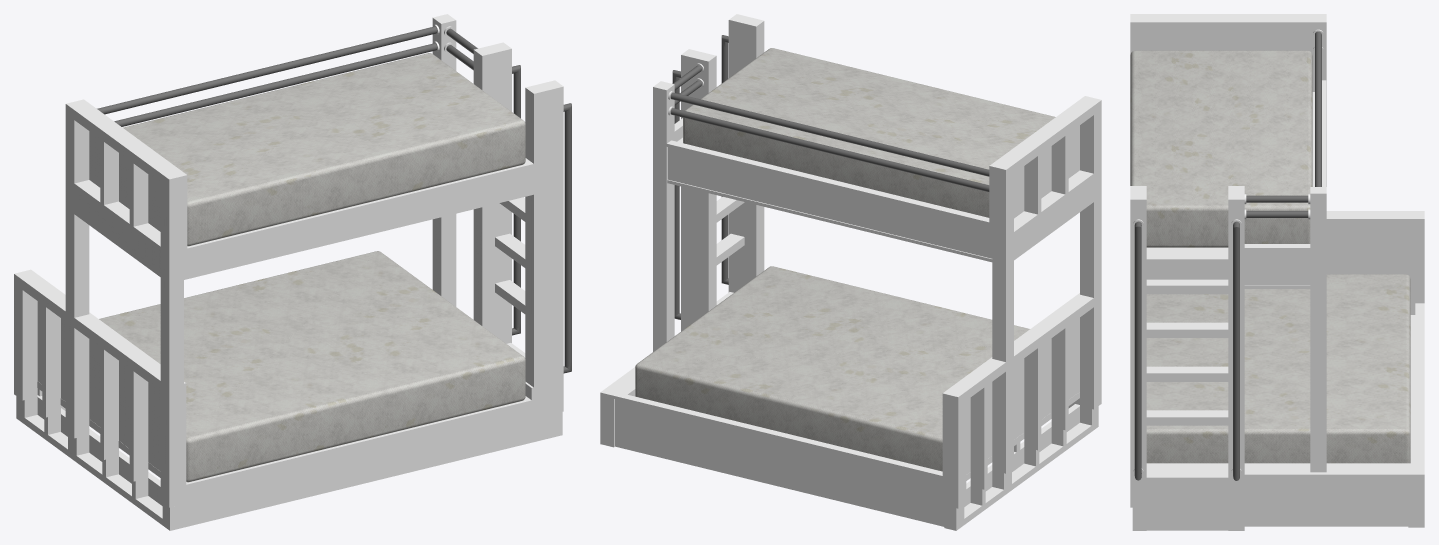
Rendered from bunkbed.glb.
3 views of the same model, side by side, from view 1: azimuth 30°, elevation 25°; view 2: azimuth 150°, elevation 25°; view 3: azimuth 270°, elevation 25° (orthographic). The views are drawn at different scales.
Visible parts, largest first — view 1: queen-queen, twin-mattress, twin-rail-left, bunk-leg-head-left, queen-rail-left.002, bunk-leg-foot-left, bunk-leg-head-right, queen-rail-left, ladder-leg-left, queen-molding-head-front, ladder-leg-right-back, twin-platform (+24 smaller); view 2: queen-queen, twin-mattress, queen-rail-right, twin-rail-right, bunk-leg-head-right, bunk-leg-head-left, bunk-leg-foot-right, queen-molding-head-front, ladder-leg-right-back, queen-leg-head-right, queen-molding-rail-right, bunk-leg-foot-left (+22 smaller); view 3: queen-queen, twin-mattress, queen-rail-foot-right, queen-molding-head-front, twin-molding-head-front, bunk-leg-foot-right, ladder-bottom-front, ladder-leg-left, ladder-leg-right-front, queen-molding-foot-top, twin-molding-head-top, twin-rail-foot-right (+18 smaller).
Boxes of the visible parts, <box> form: queen-queen: <box>99,251,525,482</box>; twin-mattress: <box>123,53,525,246</box>; twin-rail-left: <box>184,167,533,276</box>; bunk-leg-head-left: <box>160,177,183,530</box>; queen-rail-left.002: <box>183,420,528,527</box>; bunk-leg-foot-left: <box>525,84,548,442</box>; bunk-leg-head-right: <box>65,107,89,462</box>; queen-rail-left: <box>184,403,533,503</box>; ladder-leg-left: <box>541,80,563,438</box>; queen-molding-head-front: <box>37,301,186,488</box>; ladder-leg-right-back: <box>473,46,496,336</box>; twin-platform: <box>74,158,533,251</box>; queen-queen: <box>635,266,1029,471</box>; twin-mattress: <box>683,48,1055,217</box>; queen-rail-right: <box>615,399,944,526</box>; twin-rail-right: <box>668,147,992,258</box>; bunk-leg-head-right: <box>992,167,1013,495</box>; bunk-leg-head-left: <box>1080,103,1101,431</box>; bunk-leg-foot-right: <box>653,81,674,351</box>; queen-molding-head-front: <box>942,317,1079,476</box>; ladder-leg-right-back: <box>694,52,716,321</box>; queen-leg-head-right: <box>944,395,966,530</box>; queen-molding-rail-right: <box>600,389,944,479</box>; bunk-leg-foot-left: <box>742,17,764,285</box>; queen-queen: <box>1146,274,1410,463</box>; twin-mattress: <box>1130,50,1312,247</box>; queen-rail-foot-right: <box>1244,477,1408,526</box>; queen-molding-head-front: <box>1326,222,1424,314</box>; twin-molding-head-front: <box>1130,25,1326,91</box>; bunk-leg-foot-right: <box>1310,187,1326,472</box>; ladder-bottom-front: <box>1146,480,1228,530</box>; ladder-leg-left: <box>1130,192,1146,530</box>; ladder-leg-right-front: <box>1228,192,1244,530</box>; queen-molding-foot-top: <box>1244,463,1415,477</box>; twin-molding-head-top: <box>1130,14,1326,25</box>; twin-rail-foot-right: <box>1244,251,1310,285</box>.
Size of the model in its own units: 2.43 by 2.01 by 1.6.
4 materials, 1 textured.
